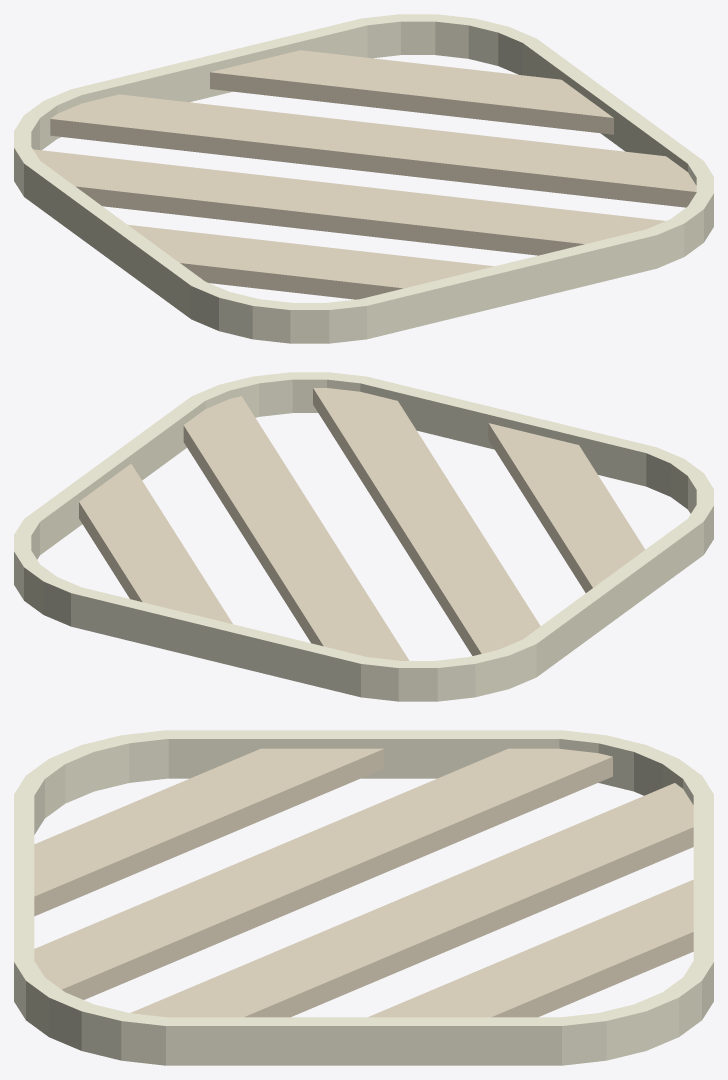
Rendered from furnitureSelector1x1.gltf.
3 renders of one model, top to bottom at view 1: azimuth 30°, elevation 25°; view 2: azimuth 150°, elevation 25°; view 3: azimuth 270°, elevation 25°, orthographic. The views are drawn at different scales.
Parts seen in each view (by area): view 1: tube_selection; view 2: tube_selection; view 3: tube_selection.
Boxes of the visible parts, bbox=[...] form: tube_selection: bbox=[14, 14, 713, 343]; tube_selection: bbox=[14, 372, 713, 701]; tube_selection: bbox=[14, 730, 713, 1065].
Bounding box in the file's own units: 1 × 0.0625 × 1.
1 material, 1 textured.
